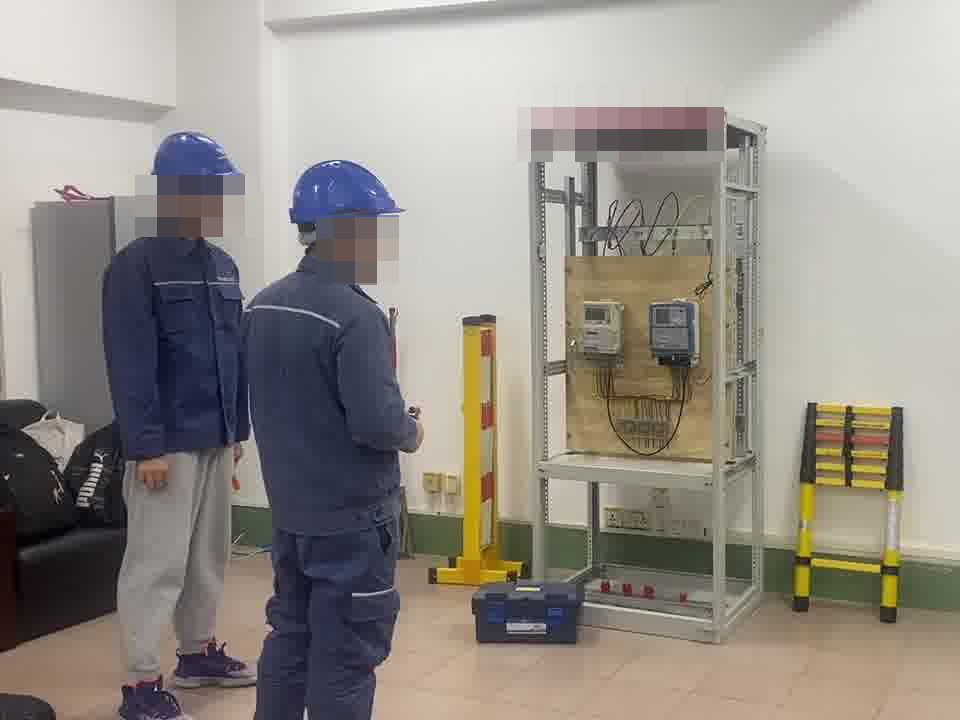downcloth: (116, 469, 237, 681)
downsuit: (246, 532, 400, 720)
halt: (286, 158, 404, 280), (149, 129, 243, 237)
hand: (133, 453, 170, 490)
inear: (317, 217, 370, 267), (160, 178, 197, 223)
person: (242, 154, 428, 720), (94, 125, 246, 713)
upsuit: (244, 269, 425, 519), (102, 234, 239, 461)
